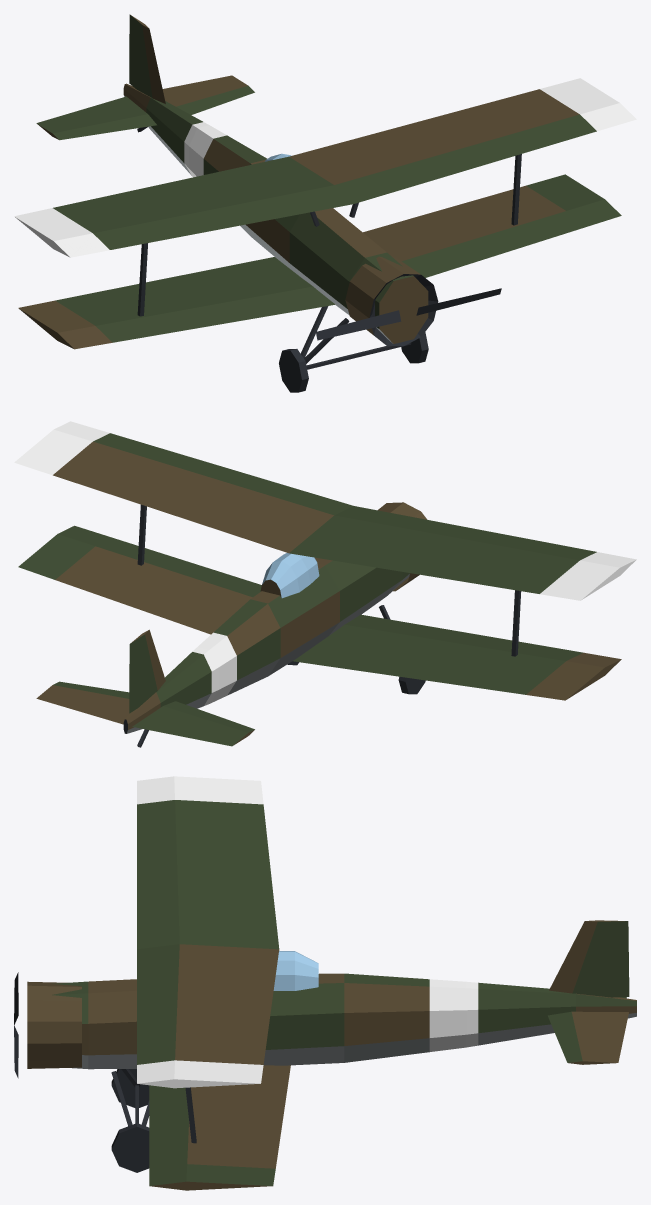
File: gladiator.glb
3 views of the same model, one above another, from view 1: azimuth 30°, elevation 25°; view 2: azimuth 150°, elevation 25°; view 3: azimuth 270°, elevation 25° (orthographic). The views are drawn at different scales.
Parts seen in each view (by area): view 1: body, prop; view 2: body; view 3: body.
Part boxes in pixels (x1,y1,x2,y2): body: [14, 14, 636, 392]; prop: [316, 288, 501, 340]; body: [14, 421, 636, 747]; body: [27, 776, 636, 1190].
Bounding box in the file's own units: 9.83 × 3.3 × 8.54.
